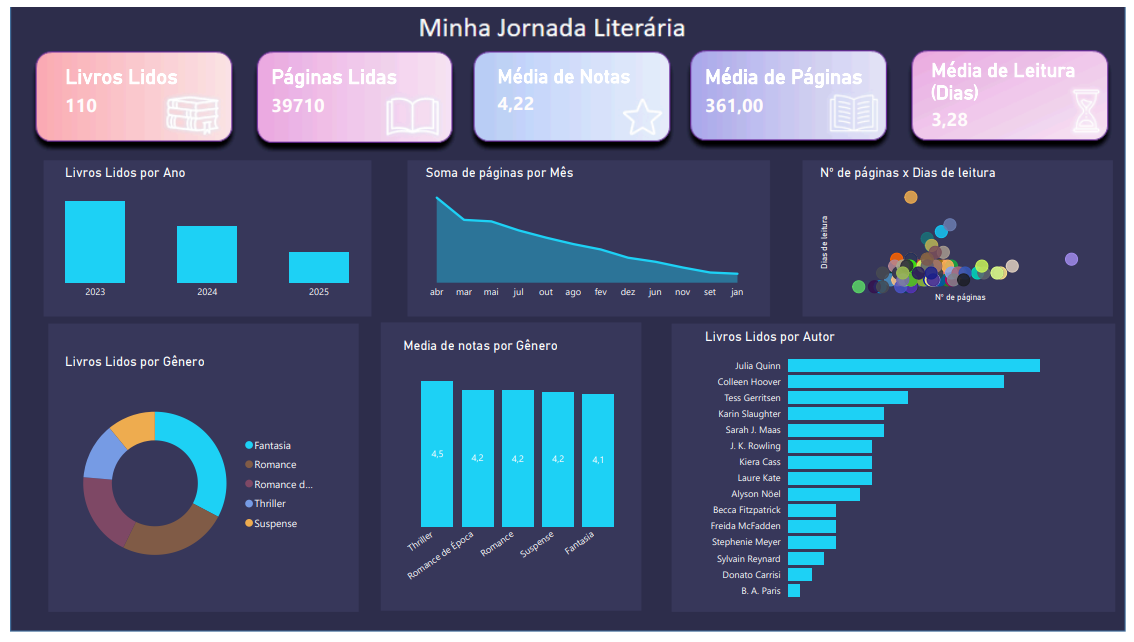

This screenshot's page, from the dashboard's own definition file:
{"tool":"powerbi","page":{"name":"Página 1","canvas":[1920,1080],"ordinal":0},"visuals":[{"type":"multiRowCard","title":"Livros Lidos","fields":{"Values":["Base_de_dados.Livros Lidos"]},"box":[65.9,74.1,203.8,92.6],"z":0},{"type":"multiRowCard","title":"Páginas Lidas","fields":{"Values":["Base_de_dados.Páginas Lidas"]},"box":[333.4,74.1,214.1,78.2],"z":1000},{"type":"multiRowCard","title":"Média de Notas","fields":{"Values":["Base_de_dados.Medida"]},"box":[625.7,74.1,222.3,80.3],"z":2000},{"type":"multiRowCard","title":"Média de Páginas","fields":{"Values":["Base_de_dados.Média de Páginas"]},"box":[895.4,74.1,232.6,74.1],"z":3000},{"type":"multiRowCard","title":"Média de Leitura (Dias)","fields":{"Values":["Base_de_dados.Média de Leitura"]},"box":[1187.7,65.9,244.9,111.1],"z":4000},{"type":"columnChart","fields":{"Category":["Base_de_dados.Fim da leitura.Variation.Hierarquia de datas.Ano","Base_de_dados.Fim da leitura.Variation.Hierarquia de datas.Mês"],"Y":["Base_de_dados.Livros Lidos"]},"box":[65.9,203.8,376.7,183.2],"z":5000},{"type":"donutChart","fields":{"Category":["Base_de_dados.Gênero"],"Y":["Base_de_dados.Livros Lidos"]},"box":[65.9,448.7,341.7,317],"z":6000},{"type":"barChart","fields":{"Y":["Base_de_dados.Livros Lidos"],"Category":["Base_de_dados.Autor"]},"box":[895.4,415.8,504.3,362.3],"z":7000},{"type":"columnChart","fields":{"Category":["Base_de_dados.Gênero"],"Y":["Base_de_dados.Media de notas"]},"box":[504.3,428.1,304.6,337.6],"z":8000},{"type":"scatterChart","title":"Nº de páginas x Dias de leitura","fields":{"X":["Base_de_dados.Nº de páginas"],"Y":["Base_de_dados.Dias de leitura"],"Series":["Base_de_dados.Título"]},"box":[1043.6,203.8,356.1,183.2],"z":9000},{"type":"areaChart","title":"Soma de páginas por Mês","fields":{"Category":["Base_de_dados.Mês"],"Y":["Base_de_dados.Nº de páginas"]},"box":[533.1,203.8,428.1,183.2],"z":10000}]}

Visuals, with their boxes in screenshot pixels (x1, y1, x2, y2), scaled from the page's 1920x1080 canvas onto the 1134x642 screenshot:
"Livros Lidos" multiRowCard: box=[39, 44, 159, 99]
"Páginas Lidas" multiRowCard: box=[197, 44, 323, 91]
"Média de Notas" multiRowCard: box=[370, 44, 501, 92]
"Média de Páginas" multiRowCard: box=[529, 44, 666, 88]
"Média de Leitura (Dias)" multiRowCard: box=[701, 39, 846, 105]
columnChart - Base_de_dados.Fim da leitura.Variation.Hierarquia de datas.Ano x Base_de_dados.Fim da leitura.Variation.Hierarquia de datas.Mês: box=[39, 121, 261, 230]
donutChart - Base_de_dados.Gênero x Base_de_dados.Livros Lidos: box=[39, 267, 241, 455]
barChart - Base_de_dados.Livros Lidos x Base_de_dados.Autor: box=[529, 247, 827, 463]
columnChart - Base_de_dados.Gênero x Base_de_dados.Media de notas: box=[298, 254, 478, 455]
"Nº de páginas x Dias de leitura" scatterChart: box=[616, 121, 827, 230]
"Soma de páginas por Mês" areaChart: box=[315, 121, 568, 230]
